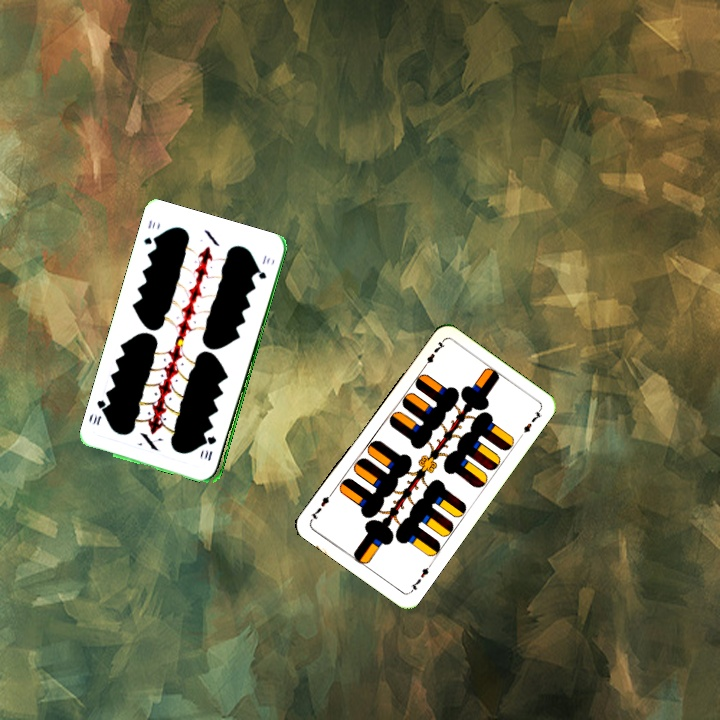E7: (418, 337, 447, 372), (406, 560, 434, 595)
G10: (140, 216, 160, 247), (204, 431, 219, 463)
